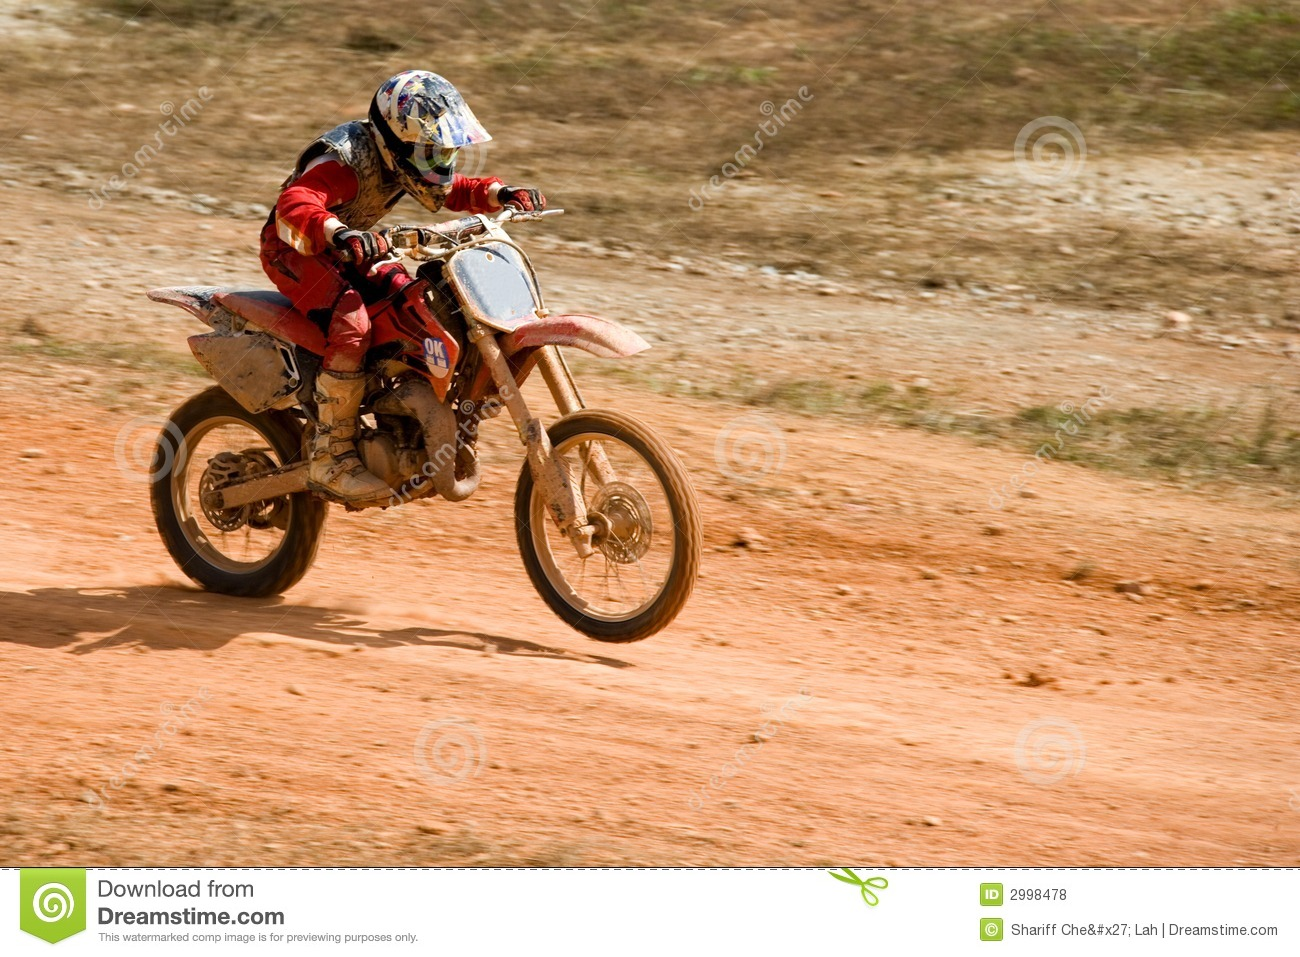helmet: (374, 83, 489, 204)
